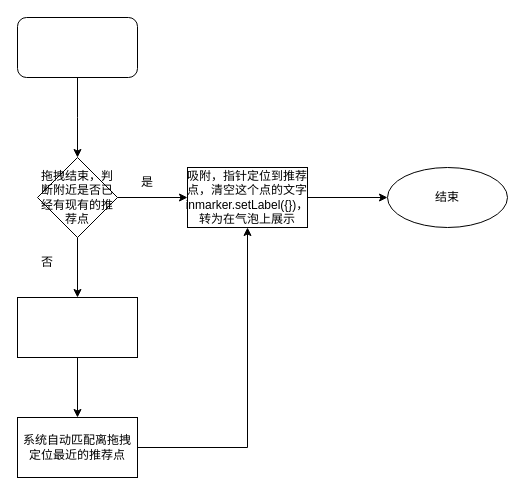
This 525x495 diagram has some shape labels left out. The shapes that lost their labels are listed below. From the top down, each one's centre as x and y in pixels, then its label:
[77,47]: 拖拽开始 设置mapMoveType = "adsorbent"
[77,327]: 清空现有推荐点， 重新查找推荐点，在地图上展示
